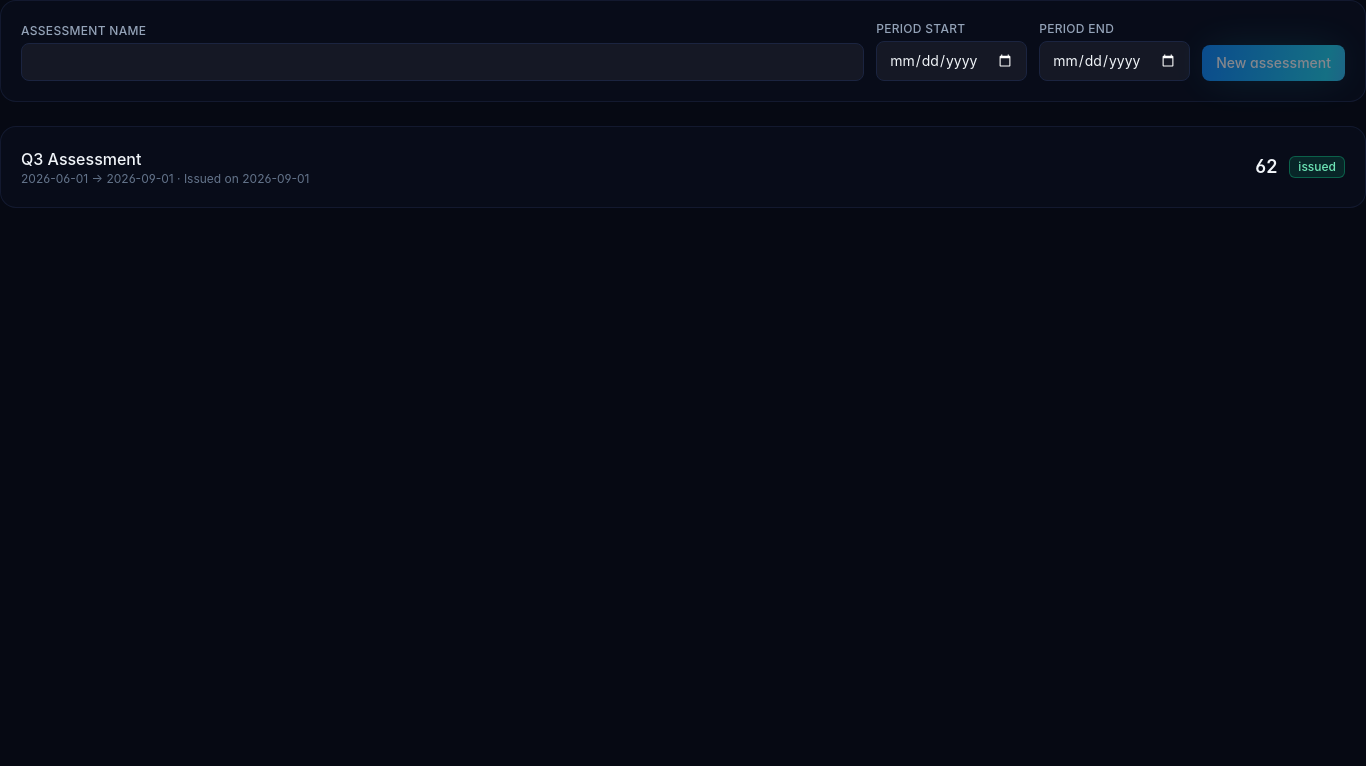
Test: AssessmentsTab — N/A is not 0.0 › renders a real risk value when one exists
This screenshot has width=1366, height=766.
Click the button "Q3 Assessment". click: (81, 159)
box: x1=21 y1=147 x2=1345 y2=187
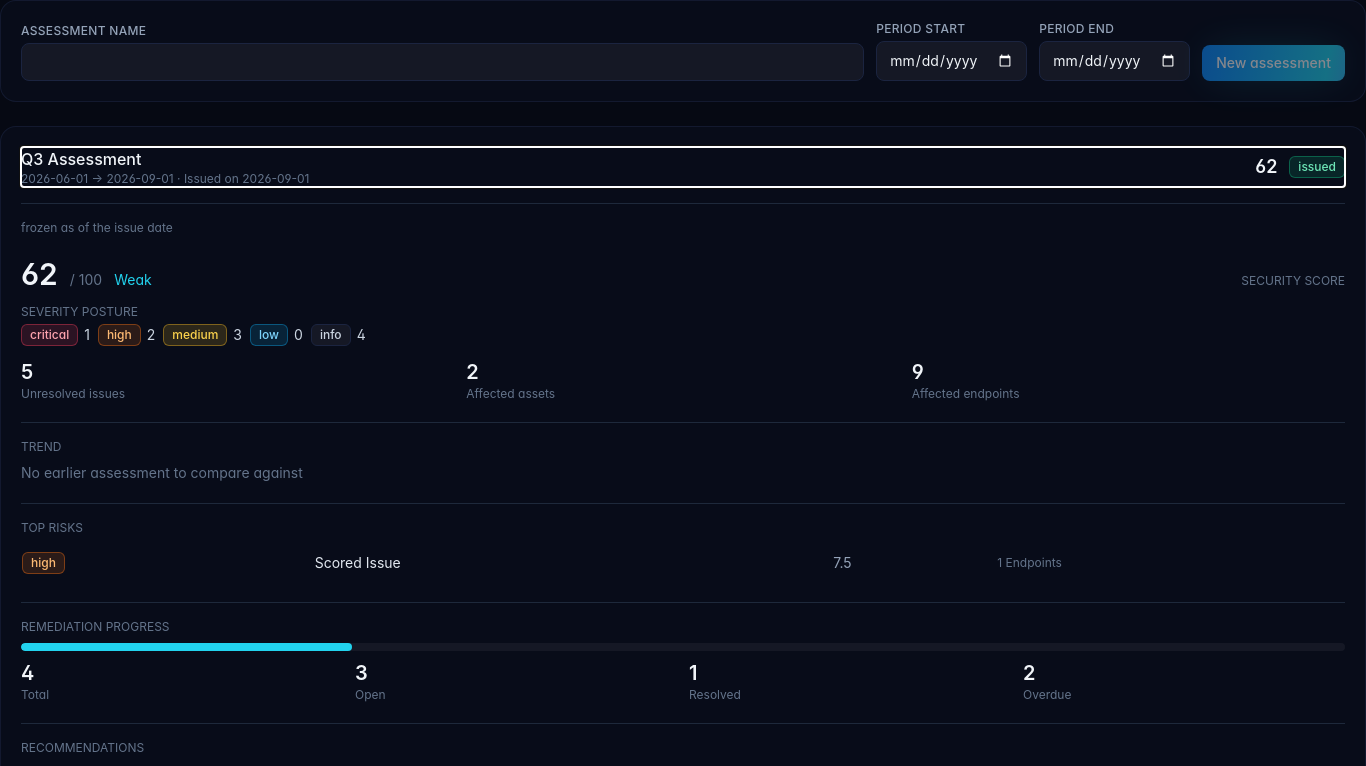
Check: the text "7.5" is shown, box x1=832 y1=544 x2=996 y2=582
